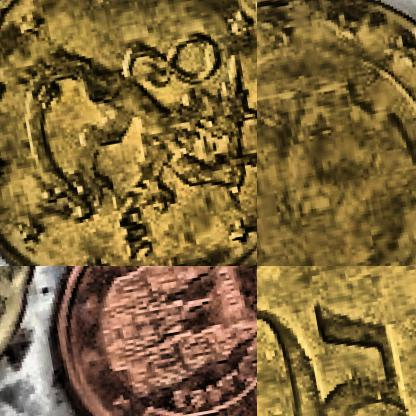coin: (0, 0, 256, 265), (257, 0, 415, 265), (34, 266, 256, 415), (257, 266, 415, 415)
